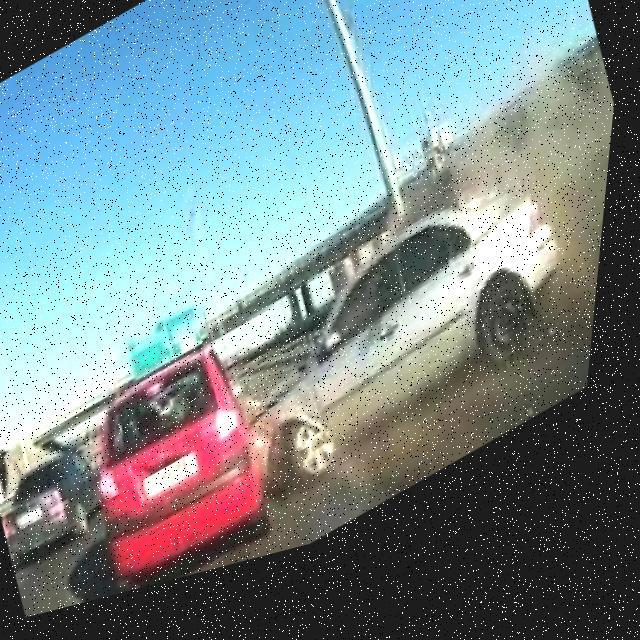Car Accident Detector - v4 Generation1 Exported: (45, 140, 620, 621)
